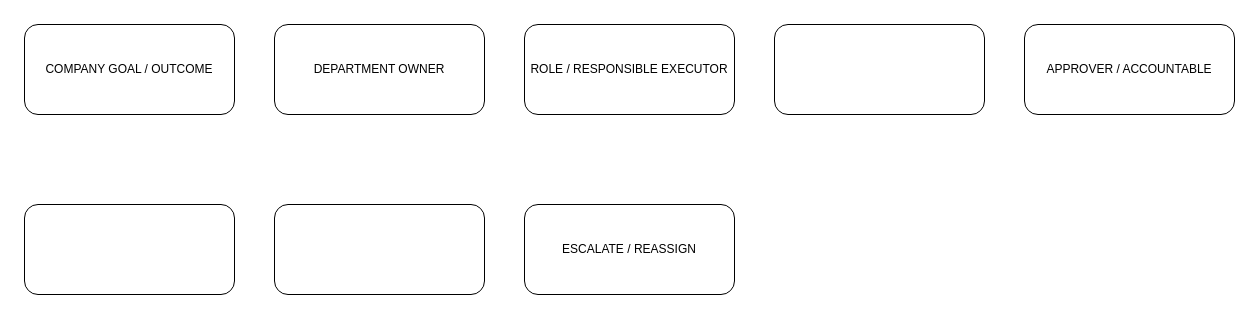
Image size: 1252x312. Some labels were removed from this diagram. Each missing label, with the centre of its shape:
"EVIDENCE / OUTPUT" belongs at point 129,249.
"KPI / REVIEW" belongs at point 379,249.
"SUPPORT / CONSULTED" belongs at point 879,69.
